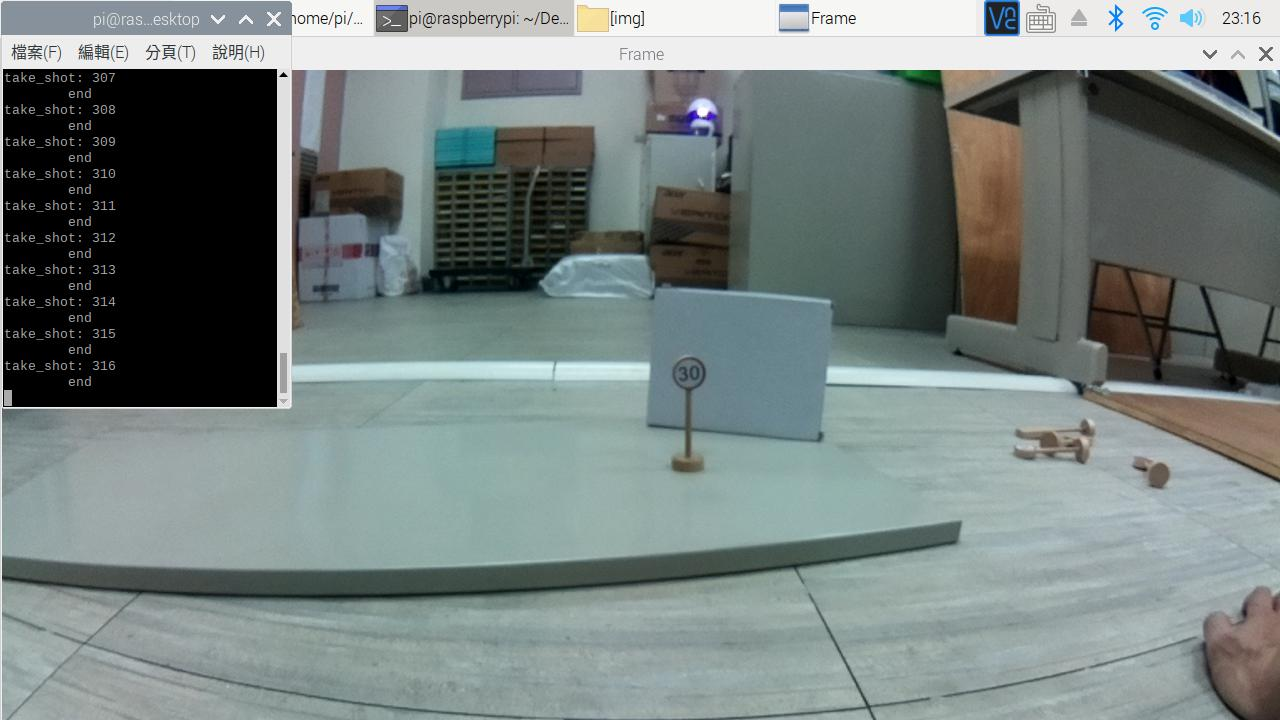Speed30: (661, 348, 724, 400)
